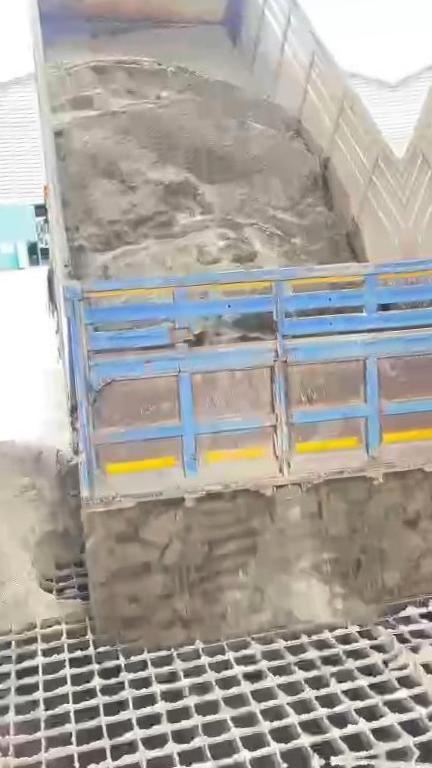sand: (48, 59, 355, 279), (84, 473, 432, 648), (0, 442, 81, 632)
